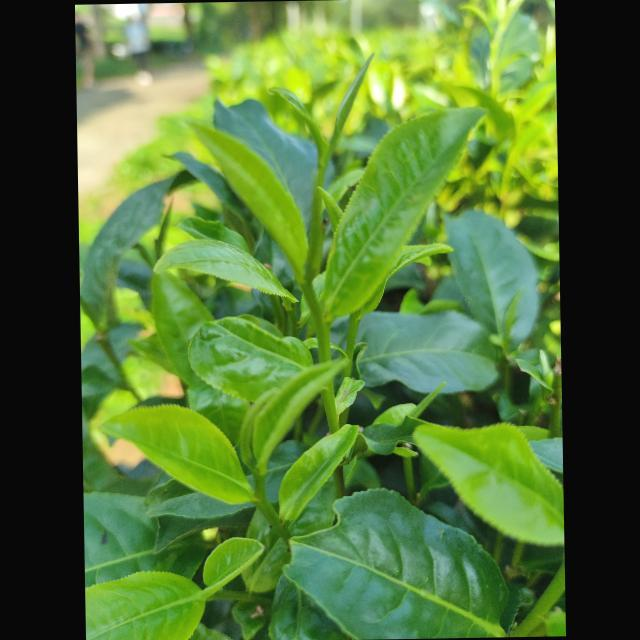Stem: (317, 161, 329, 175)
